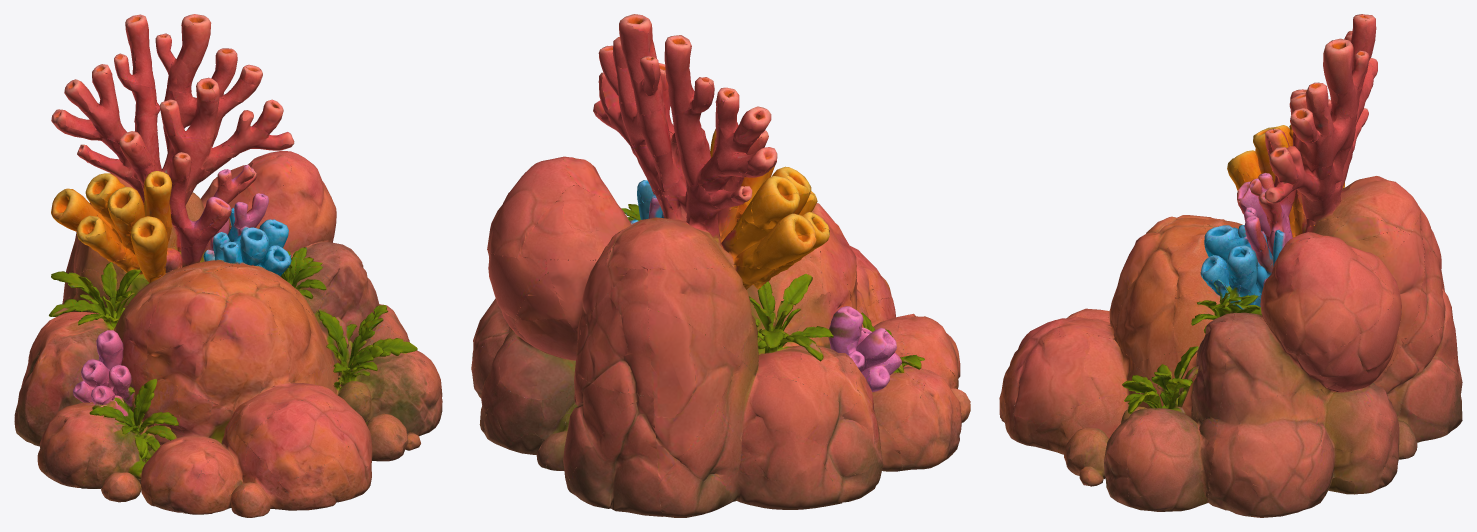
Rendered from coral_rock.glb.
The picture shows the model from 3 angles, left to right: view 1: azimuth 30°, elevation 25°; view 2: azimuth 150°, elevation 25°; view 3: azimuth 270°, elevation 25°; orthographic projection. The views are drawn at different scales.
Parts seen in each view (by area): view 1: coral_rock; view 2: coral_rock; view 3: coral_rock.
Part boxes in pixels (x1=…): coral_rock: x1=14, y1=14, x2=442, y2=517; coral_rock: x1=471, y1=14, x2=970, y2=517; coral_rock: x1=999, y1=14, x2=1462, y2=517.
Bounding box in the file's own units: 1.9 × 1.78 × 1.9.
1 material, 1 textured.
